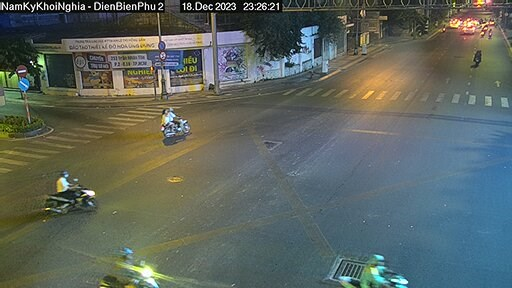motorbike: (38, 172, 100, 210), (153, 106, 197, 141)
